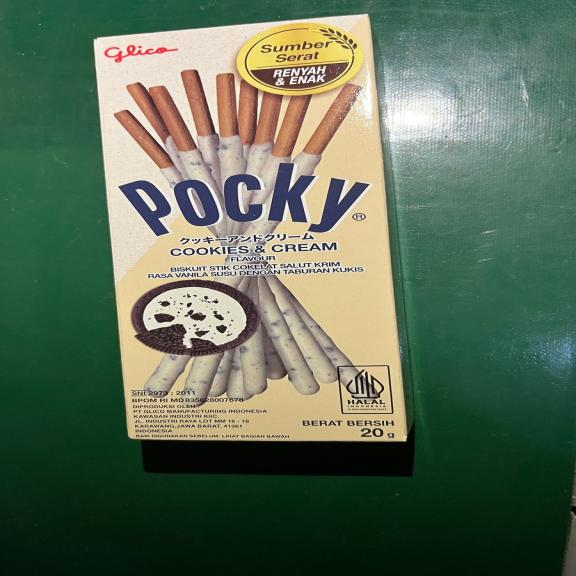Kertas: (88, 15, 410, 442)
